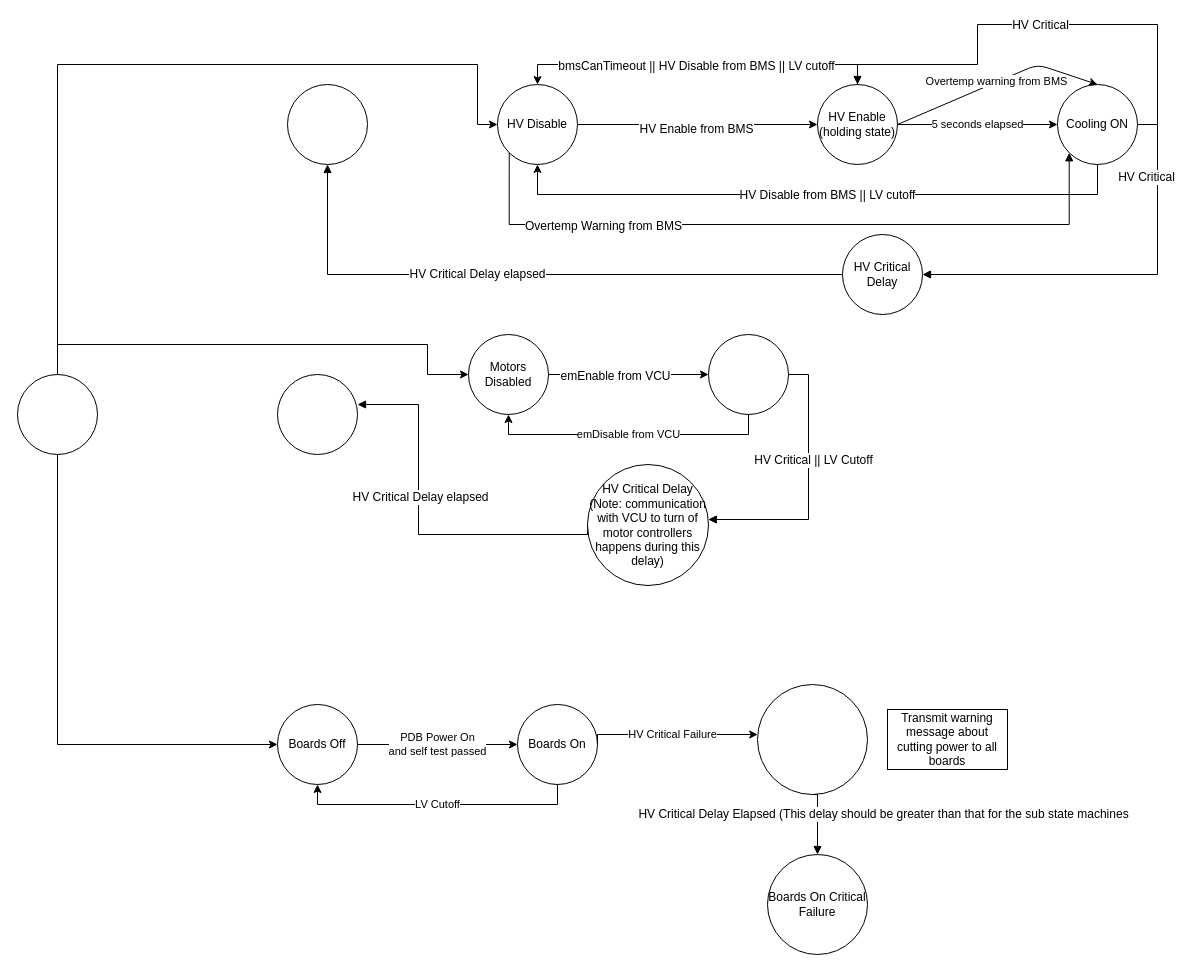
Image size: 1192x972. Some labels were removed from this diagram. The centre of each missing label's shape, as x and y in pixels:
"HV Critical Warning" belongs at point 812,739.
"HV Disabled Critical" belongs at point 327,124.
"Motors Disabled Critical" belongs at point 317,414.
"MotorsEnable" belongs at point 748,374.
"Start" belongs at point 57,414.
